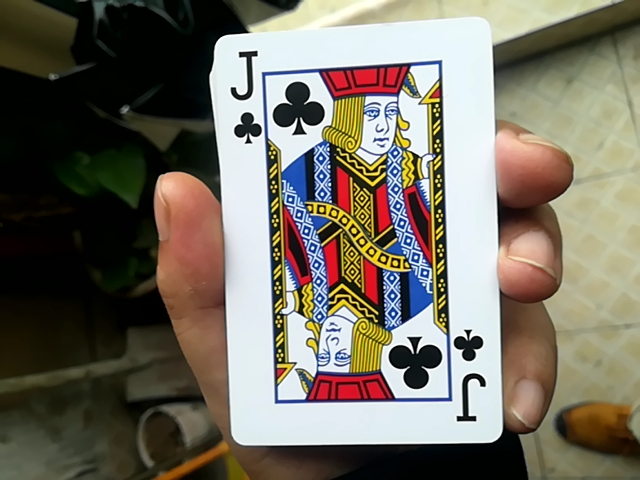mh j: (203, 6, 502, 438)
